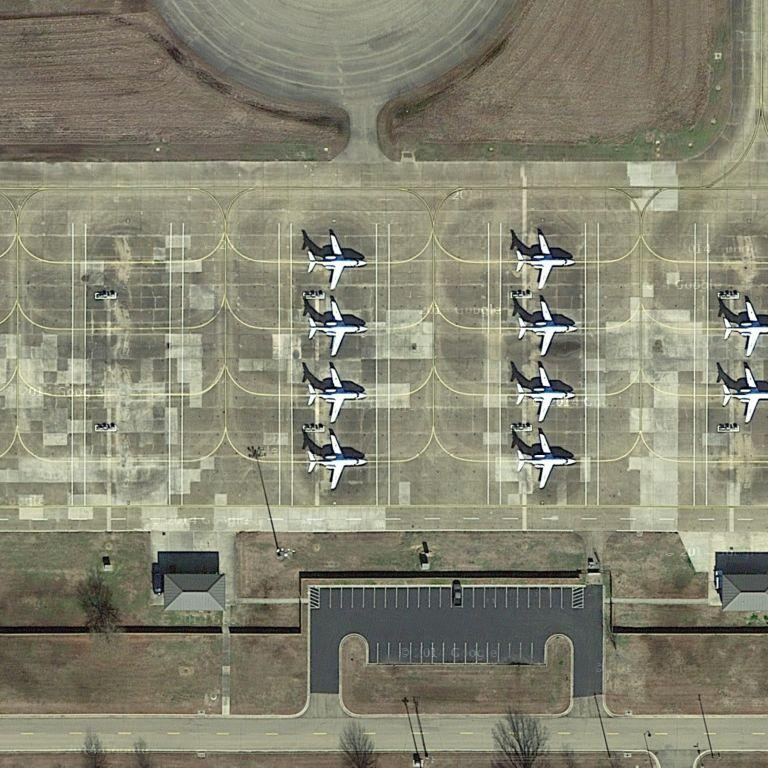plane: (511, 428, 580, 489), (303, 430, 371, 489), (301, 299, 370, 356), (511, 365, 575, 423), (516, 300, 581, 356), (513, 234, 580, 288), (303, 234, 371, 287), (305, 366, 368, 422), (715, 363, 768, 423), (716, 296, 768, 355)
